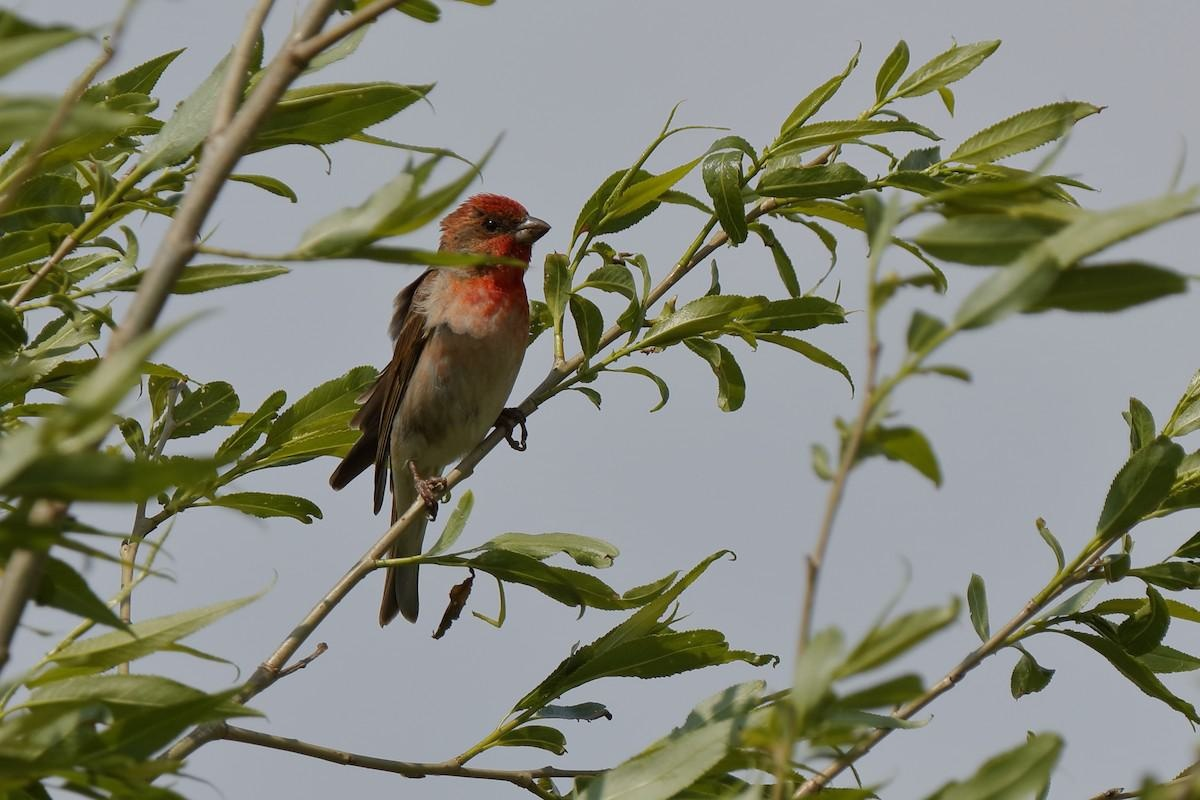rosefinch: (327, 175, 558, 624)
